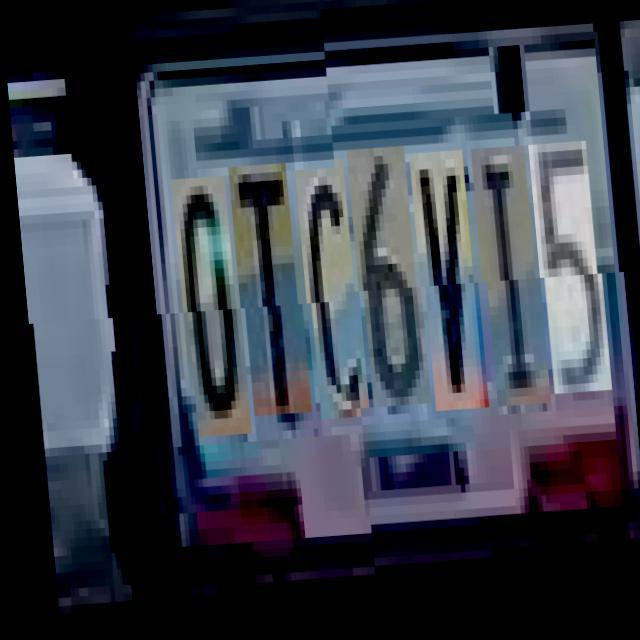5: (530, 158, 604, 411)
6: (348, 160, 424, 421)
C: (296, 172, 362, 424)
I: (472, 161, 544, 422)
O: (172, 178, 244, 440)
T: (229, 166, 304, 420)
V: (411, 165, 482, 426)
